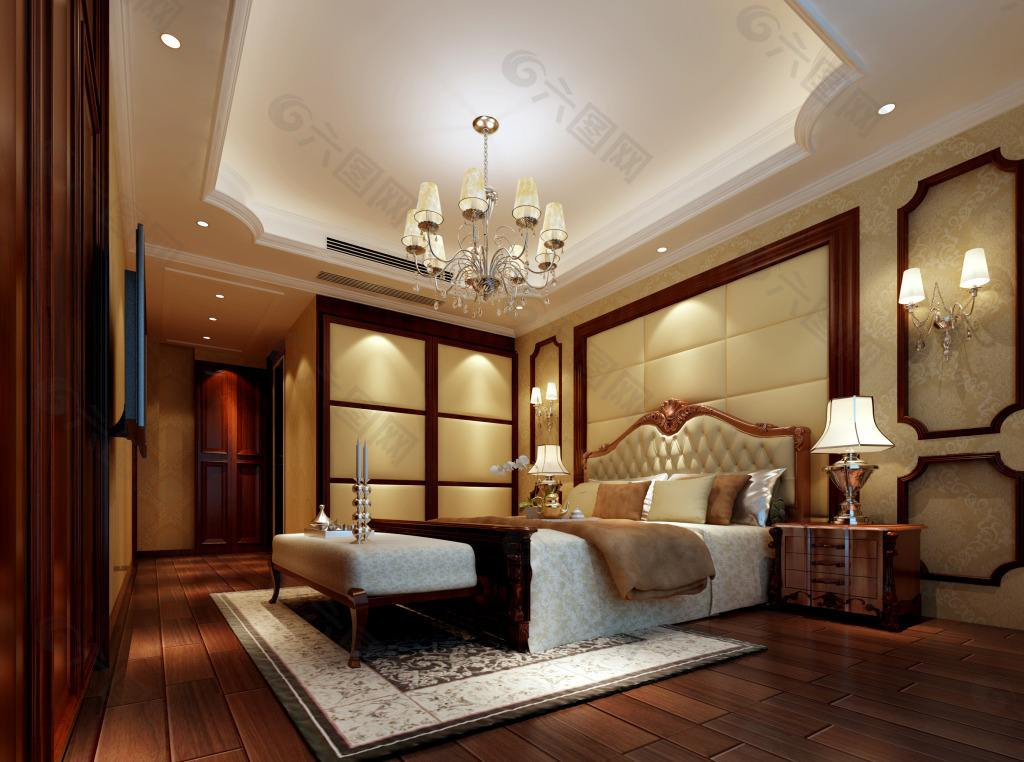床: (383, 505, 772, 642)
枕头: (584, 467, 787, 532)
灯: (397, 111, 571, 317), (814, 395, 898, 530), (894, 244, 997, 349), (524, 445, 573, 512), (518, 377, 567, 437), (470, 110, 498, 141), (155, 31, 184, 54), (867, 100, 899, 120), (187, 217, 212, 238), (207, 293, 229, 310), (646, 246, 669, 262)
